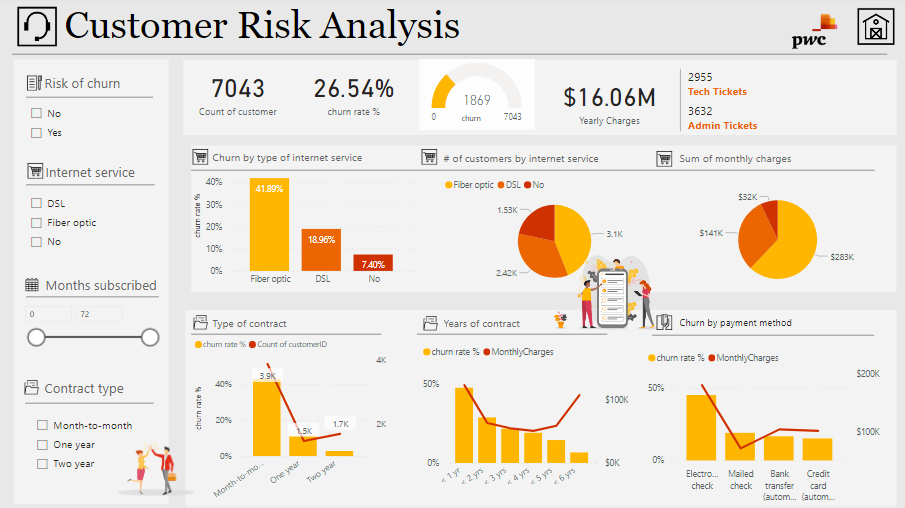

Layout of this report page (visuals, bound fields, positions):
{"tool":"powerbi","page":{"name":"Risk Analysis","canvas":[1280,720],"ordinal":2},"visuals":[{"type":"basicShape","box":[252.2,438.2,1022.9,281.8],"z":0},{"type":"basicShape","box":[260.7,207.1,1014.5,211.4],"z":1000},{"type":"basicShape","box":[249.4,87.4,1025.8,108.5],"z":2000},{"type":"basicShape","box":[18.3,81,222.8,638.6],"z":3000},{"type":"textbox","box":[87.4,4.2,1192,76.1],"z":4000},{"type":"basicShape","box":[8.7,60.7,1253,40.5],"z":5000},{"type":"image","box":[1073.7,1.4,150.8,94.4],"z":6000},{"type":"textbox","box":[59.8,102.2,174.6,40.5],"z":7000},{"type":"basicShape","box":[28,120.6,198.7,39.5],"z":8000},{"type":"image","box":[31.8,105.1,34.7,30.9],"z":9000},{"type":"slicer","fields":{"Values":["01 Churn-Dataset.Churn"]},"box":[32.4,145.1,173.3,64.8],"z":10000},{"type":"textbox","box":[60.3,228.7,180.4,40.5],"z":11000},{"type":"image","box":[35.2,227.4,31.8,34.7],"z":12000},{"type":"basicShape","box":[28.5,244.5,200.6,38.6],"z":13000},{"type":"slicer","fields":{"Values":["01 Churn-Dataset.InternetService"]},"box":[32.4,271.9,200.1,97.2],"z":14000},{"type":"textbox","box":[60.4,387.1,185.2,39.5],"z":15000},{"type":"basicShape","box":[28.5,402.5,207.4,38.6],"z":16000},{"type":"image","box":[32.4,387.1,28,34.7],"z":17000},{"type":"slicer","title":"Number of months subscribed","fields":{"Values":["01 Churn-Dataset.tenure"]},"box":[24,425.5,209.9,70.5],"z":18000},{"type":"textbox","box":[59,532.2,159.2,40.5],"z":19000},{"type":"basicShape","box":[27.1,552.5,200.6,39.5],"z":20000},{"type":"image","box":[31,527.4,29.9,45.3],"z":21000},{"type":"slicer","fields":{"Values":["01 Churn-Dataset.Contract"]},"box":[40.9,584.7,177.5,100],"z":22000},{"type":"card","fields":{"Values":["CountNonNull(01 Churn-Dataset.customerID)"]},"box":[262.1,88.8,149.4,88.8],"z":23000},{"type":"card","fields":{"Values":["01 Churn-Dataset.churn rate %"]},"box":[425.5,88.8,149.4,88.8],"z":24000},{"type":"gauge","fields":{"Y":["01 Churn-Dataset.count of churn for yes"],"MaxValue":["CountNonNull(01 Churn-Dataset.customerID)"]},"box":[591.8,86.9,163.4,100],"z":25000},{"type":"textbox","box":[646.7,156,57.8,28.2],"z":26000},{"type":"card","fields":{"Values":["Sum(01 Churn-Dataset.TotalCharges)"]},"box":[778.4,89,164.9,113.8],"z":27000},{"type":"multiRowCard","fields":{"Values":["Sum(01 Churn-Dataset.numTechTickets)","Sum(01 Churn-Dataset.numAdminTickets)"]},"box":[954,96.2,207.4,99.4],"z":28000},{"type":"image","box":[19.7,8.5,67.6,66.2],"z":29000},{"type":"textbox","box":[295.4,210,300.9,40.5],"z":30000},{"type":"image","box":[268.4,207,31.8,34.7],"z":31000},{"type":"textbox","box":[621.4,211.9,285.5,40.5],"z":32000},{"type":"image","box":[590.6,207,31.8,34.7],"z":33000},{"type":"textbox","box":[953.2,211.9,283.6,40.5],"z":34000},{"type":"image","box":[921.4,209.9,31.8,34.7],"z":35000},{"type":"basicShape","box":[260.7,224.4,982.9,39.5],"z":36000},{"type":"clusteredColumnChart","fields":{"Category":["01 Churn-Dataset.InternetService"],"Y":["01 Churn-Dataset.churn rate %"]},"box":[269.1,217,322.7,198.7],"z":37000},{"type":"pieChart","fields":{"Category":["01 Churn-Dataset.InternetService"],"Y":["CountNonNull(01 Churn-Dataset.customerID)"]},"box":[622.8,245.2,319.8,170.5],"z":38000},{"type":"pieChart","fields":{"Category":["01 Churn-Dataset.InternetService"],"Y":["Sum(01 Churn-Dataset.MonthlyCharges)"]},"box":[949.1,264.3,295.2,154.3],"z":39000},{"type":"textbox","box":[295.9,443.2,237.3,40.5],"z":40000},{"type":"basicShape","box":[261.2,455.8,288.4,39.5],"z":41000},{"type":"image","box":[268.9,435.5,29.9,45.3],"z":42000},{"type":"textbox","box":[621.9,443.2,270.1,40.5],"z":43000},{"type":"basicShape","box":[579.5,455.8,288.4,39.5],"z":44000},{"type":"image","box":[593,436.4,29.9,45.3],"z":45000},{"type":"textbox","box":[953.7,445.3,270.1,40.5],"z":46000},{"type":"basicShape","box":[910.9,456,332.8,39.5],"z":47000},{"type":"image","box":[921.5,438.6,31.8,39.5],"z":48000},{"type":"lineClusteredColumnComboChart","fields":{"Category":["01 Churn-Dataset.Contract"],"Y":["01 Churn-Dataset.churn rate %"],"Y2":["CountNonNull(01 Churn-Dataset.customerID)"]},"box":[270.5,470.6,280.4,249.4],"z":49000},{"type":"lineClusteredColumnComboChart","fields":{"Category":["01 Churn-Dataset.Loyalty"],"Y":["01 Churn-Dataset.churn rate %"],"Y2":["Sum(01 Churn-Dataset.MonthlyCharges)"]},"box":[591.8,480.5,300.1,231.1],"z":50000},{"type":"lineClusteredColumnComboChart","fields":{"Category":["01 Churn-Dataset.PaymentMethod"],"Y":["01 Churn-Dataset.churn rate %"],"Y2":["Sum(01 Churn-Dataset.MonthlyCharges)"]},"box":[908.8,488.9,336.8,231.1],"z":51000},{"type":"image","box":[1204.7,8.5,62,66.2],"z":52000},{"type":"image","box":[767.9,352.3,191.6,128.2],"z":53000},{"type":"image","box":[152.2,611.5,135.3,105.7],"z":54000}]}

Visuals, with their boxes in screenshot pixels (x1, y1, x2, y2), scaled from the page's 1280x720 canvas onto the 905x508 screenshot:
basicShape: box(178, 309, 902, 507)
basicShape: box(184, 146, 902, 295)
basicShape: box(176, 62, 902, 138)
basicShape: box(13, 57, 170, 507)
textbox: box(62, 3, 904, 57)
basicShape: box(6, 43, 892, 71)
image: box(759, 1, 866, 68)
textbox: box(42, 72, 166, 101)
basicShape: box(20, 85, 160, 113)
image: box(22, 74, 47, 96)
slicer - 01 Churn-Dataset.Churn: box(23, 102, 145, 148)
textbox: box(43, 161, 170, 190)
image: box(25, 160, 47, 185)
basicShape: box(20, 173, 162, 200)
slicer - 01 Churn-Dataset.InternetService: box(23, 192, 164, 260)
textbox: box(43, 273, 174, 301)
basicShape: box(20, 284, 167, 311)
image: box(23, 273, 43, 298)
"Number of months subscribed" slicer: box(17, 300, 165, 350)
textbox: box(42, 375, 154, 404)
basicShape: box(19, 390, 161, 418)
image: box(22, 372, 43, 404)
slicer - 01 Churn-Dataset.Contract: box(29, 413, 154, 483)
card - CountNonNull(01 Churn-Dataset.customerID): box(185, 63, 291, 125)
card - 01 Churn-Dataset.churn rate %: box(301, 63, 406, 125)
gauge - 01 Churn-Dataset.count of churn for yes x CountNonNull(01 Churn-Dataset.customerID): box(418, 61, 534, 132)
textbox: box(457, 110, 498, 130)
card - Sum(01 Churn-Dataset.TotalCharges): box(550, 63, 667, 143)
multiRowCard - Sum(01 Churn-Dataset.numTechTickets) x Sum(01 Churn-Dataset.numAdminTickets): box(675, 68, 821, 138)
image: box(14, 6, 62, 53)
textbox: box(209, 148, 422, 177)
image: box(190, 146, 212, 171)
textbox: box(439, 150, 641, 178)
image: box(418, 146, 440, 171)
textbox: box(674, 150, 874, 178)
image: box(651, 148, 674, 173)
basicShape: box(184, 158, 879, 186)
clusteredColumnChart - 01 Churn-Dataset.InternetService x 01 Churn-Dataset.churn rate %: box(190, 153, 418, 293)
pieChart - 01 Churn-Dataset.InternetService x CountNonNull(01 Churn-Dataset.customerID): box(440, 173, 666, 293)
pieChart - 01 Churn-Dataset.InternetService x Sum(01 Churn-Dataset.MonthlyCharges): box(671, 186, 880, 295)
textbox: box(209, 313, 377, 341)
basicShape: box(185, 322, 389, 349)
image: box(190, 307, 211, 339)
textbox: box(440, 313, 631, 341)
basicShape: box(410, 322, 614, 349)
image: box(419, 308, 440, 340)
textbox: box(674, 314, 865, 343)
basicShape: box(644, 322, 879, 350)
image: box(652, 309, 674, 337)
lineClusteredColumnComboChart - 01 Churn-Dataset.Contract x 01 Churn-Dataset.churn rate %: box(191, 332, 390, 507)
lineClusteredColumnComboChart - 01 Churn-Dataset.Loyalty x 01 Churn-Dataset.churn rate %: box(418, 339, 631, 502)
lineClusteredColumnComboChart - 01 Churn-Dataset.PaymentMethod x 01 Churn-Dataset.churn rate %: box(643, 345, 881, 507)
image: box(852, 6, 896, 53)
image: box(543, 249, 678, 339)
image: box(108, 431, 203, 506)
